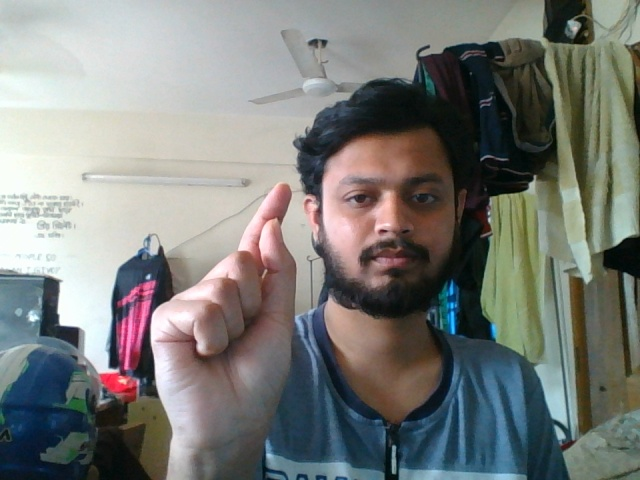tha: (147, 170, 307, 478)
